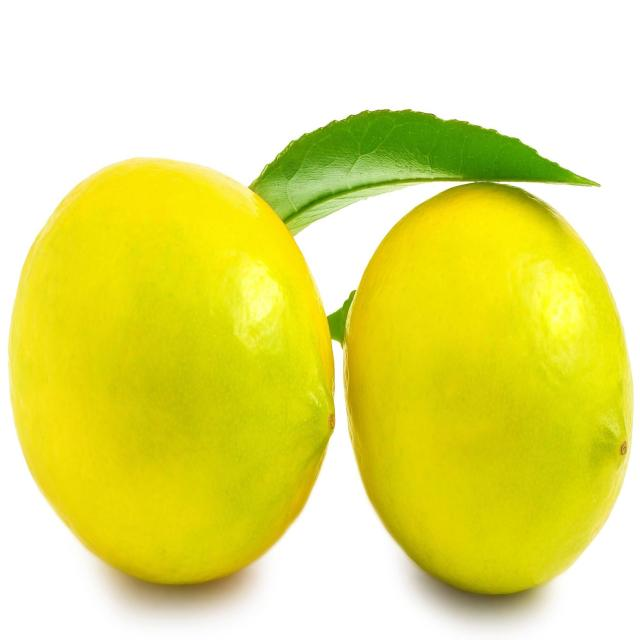lemon: (0, 150, 342, 601)
